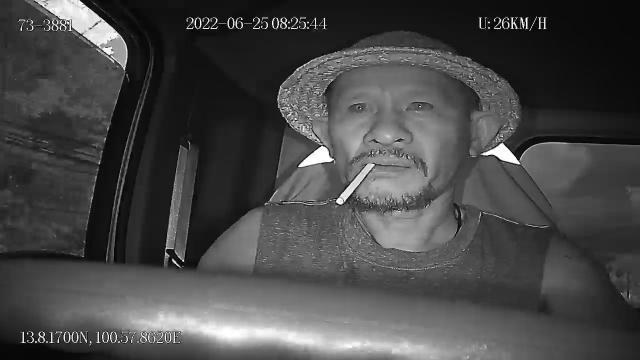SafeDriving: (400, 93, 439, 118), (343, 93, 380, 118)
Smoking: (333, 160, 381, 206)
